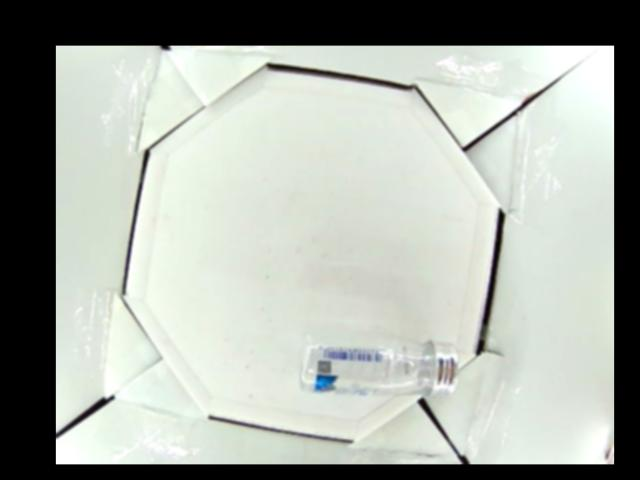Bottle: (299, 331, 459, 402)
